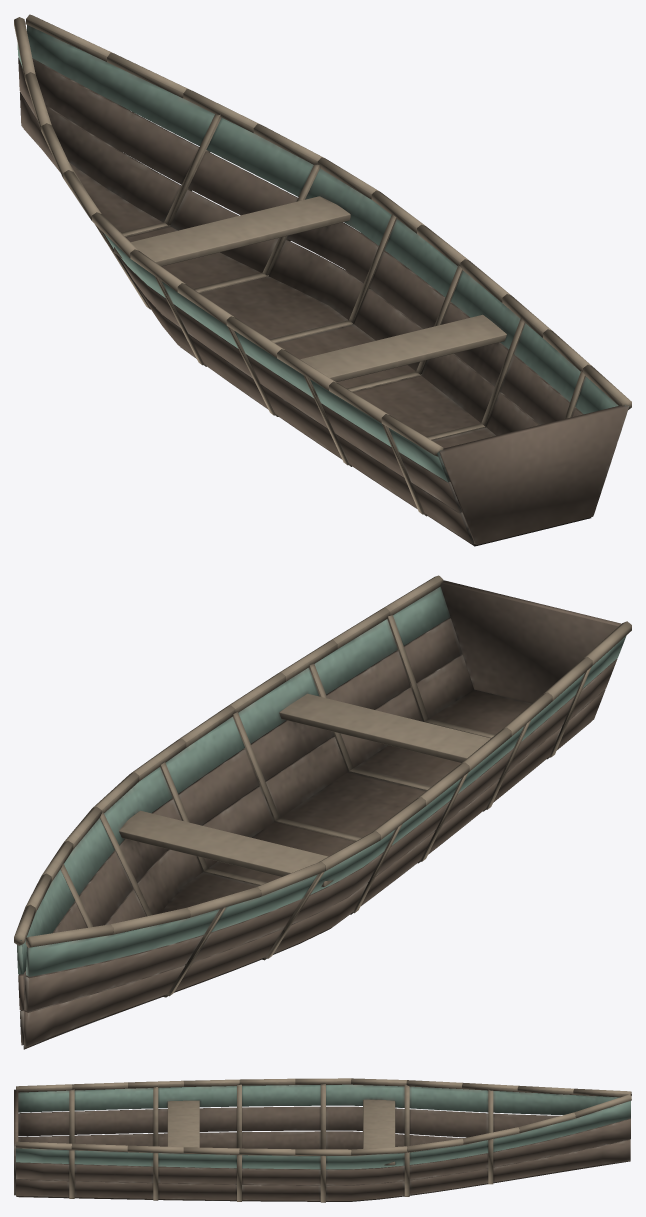
File: lake_boat.glb
3 views of the same model, one above another, from view 1: azimuth 30°, elevation 25°; view 2: azimuth 150°, elevation 25°; view 3: azimuth 270°, elevation 25° (orthographic). The views are drawn at different scales.
Visible parts, largest first — view 1: lake_boat; view 2: lake_boat; view 3: lake_boat.
Part boxes in pixels (bbox=[...]): lake_boat: bbox=[14, 14, 631, 546]; lake_boat: bbox=[14, 575, 631, 1049]; lake_boat: bbox=[14, 1078, 631, 1202].
Size of the model in its own units: 1.19 by 0.6623 by 4.23.
1 material, 1 textured.
